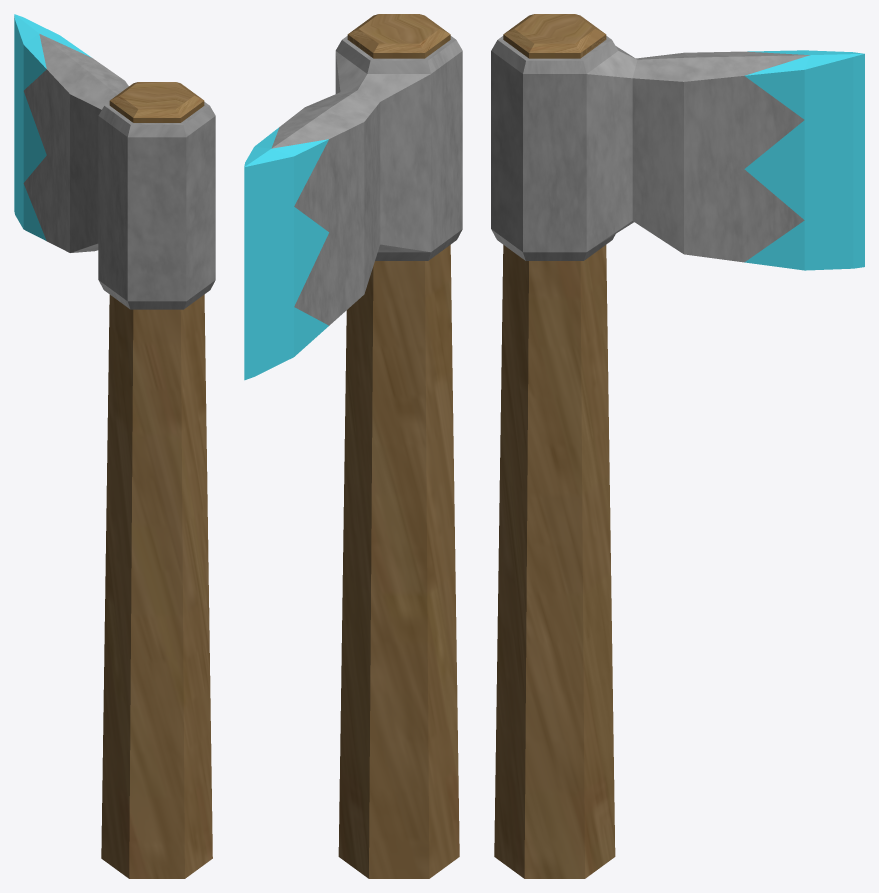
Rendered from item_axe_diamond.fbx.
3 views of the same model, side by side, from view 1: azimuth 30°, elevation 25°; view 2: azimuth 150°, elevation 25°; view 3: azimuth 270°, elevation 25° (orthographic). The views are drawn at different scales.
Parts seen in each view (by area): view 1: Edge; view 2: Edge; view 3: Edge.
Part boxes in pixels (x1=…): Edge: x1=14, y1=14, x2=215, y2=878; Edge: x1=244, y1=14, x2=462, y2=878; Edge: x1=491, y1=14, x2=864, y2=878.
Size of the model in its own units: 182 by 1510 by 618.
Materials: 3 (2 with a texture image).
